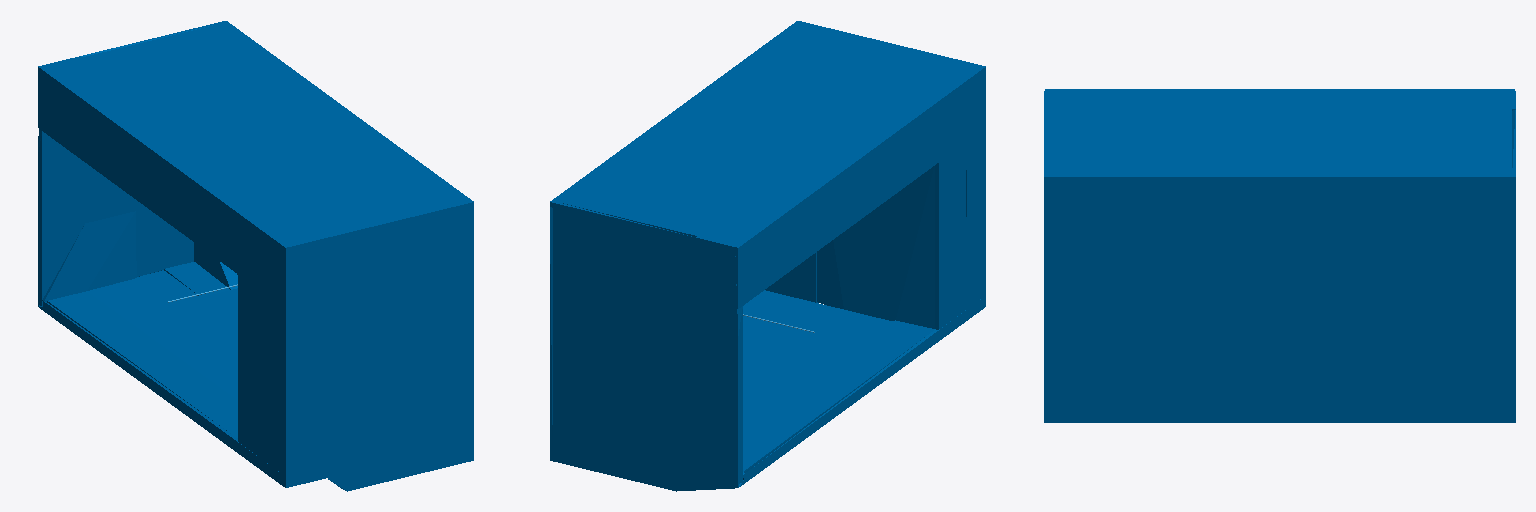
URDF robot description (partnet_87bae84777fe8b702bac1bcdfc2402d2):
<?xml version="1.0" ?>
<robot name="partnet_87bae84777fe8b702bac1bcdfc2402d2">
	<link name="base"/>
	<link name="link_0">
		<visual name="door_frame-27">
			<origin xyz="0.8040978092034378 -0.4571359999999993 -0.36598974550729024"/>
			<geometry>
				<mesh filename="textured_objs/original-4.obj"/>
			</geometry>
		</visual>
		<visual name="glass-28">
			<origin xyz="0.8040978092034378 -0.4571359999999993 -0.36598974550729024"/>
			<geometry>
				<mesh filename="textured_objs/original-2.obj"/>
			</geometry>
		</visual>
		<visual name="handle-29">
			<origin xyz="0.8040978092034378 -0.4571359999999993 -0.56598974550729024"/>
			<geometry>
				<mesh filename="textured_objs/original-3.obj" scale="1.1 1.1 1.5"/>
			</geometry>
		</visual>
		<collision>
			<origin xyz="0.8040978092034378 -0.4571359999999993 -0.36598974550729024"/>
			<geometry>
				<mesh filename="textured_objs/original-4.obj"/>
			</geometry>
		</collision>
		<collision>
			<origin xyz="0.8040978092034378 -0.4571359999999993 -0.36598974550729024"/>
			<geometry>
				<mesh filename="textured_objs/original-2.obj"/>
			</geometry>
		</collision>
		<collision>
			<origin xyz="0.8040978092034378 -0.4571359999999993 -0.36598974550729024"/>
			<geometry>
				<mesh filename="textured_objs/original-3.obj"/>
			</geometry>
		</collision>
	</link>
	<joint name="joint_0" type="revolute">
		<origin xyz="-0.8040978092034378 0.4571359999999993 0.36598974550729024"/>
		<axis xyz="0 -1 0"/>
		<child link="link_0"/>
		<parent link="link_19"/>
		<limit lower="-0.0" upper="1.5707963267948966"/>
	</joint>
	<link name="link_1">
		<visual name="control_button-8">
			<origin xyz="-0.7917796010891323 0.14215177147656233 -0.3672469999999999"/>
			<geometry>
				<mesh filename="textured_objs/original-12.obj"/>
			</geometry>
		</visual>
		<collision>
			<origin xyz="-0.7917796010891323 0.14215177147656233 -0.3672469999999999"/>
			<geometry>
				<mesh filename="textured_objs/original-12.obj"/>
			</geometry>
		</collision>
	</link>
	<joint name="joint_1" type="prismatic">
		<origin xyz="0.7917796010891323 -0.14215177147656233 0.3672469999999999"/>
		<axis xyz="0 0 -1"/>
		<child link="link_1"/>
		<parent link="link_19"/>
		<limit lower="0" upper="0.025"/>
	</joint>
	<link name="link_2">
		<visual name="control_button-9">
			<origin xyz="-0.7917796010891323 0.14215177147656233 -0.3672469999999999"/>
			<geometry>
				<mesh filename="textured_objs/original-13.obj"/>
			</geometry>
		</visual>
		<collision>
			<origin xyz="-0.7917796010891323 0.14215177147656233 -0.3672469999999999"/>
			<geometry>
				<mesh filename="textured_objs/original-13.obj"/>
			</geometry>
		</collision>
	</link>
	<joint name="joint_2" type="prismatic">
		<origin xyz="0.7917796010891323 -0.14215177147656233 0.3672469999999999"/>
		<axis xyz="0 0 -1"/>
		<child link="link_2"/>
		<parent link="link_19"/>
		<limit lower="0" upper="0.025"/>
	</joint>
	<link name="link_3">
		<visual name="control_button-10">
			<origin xyz="-0.7917796010891323 0.14215177147656233 -0.3672469999999999"/>
			<geometry>
				<mesh filename="textured_objs/original-15.obj"/>
			</geometry>
		</visual>
		<collision>
			<origin xyz="-0.7917796010891323 0.14215177147656233 -0.3672469999999999"/>
			<geometry>
				<mesh filename="textured_objs/original-15.obj"/>
			</geometry>
		</collision>
	</link>
	<joint name="joint_3" type="prismatic">
		<origin xyz="0.7917796010891323 -0.14215177147656233 0.3672469999999999"/>
		<axis xyz="0 0 -1"/>
		<child link="link_3"/>
		<parent link="link_19"/>
		<limit lower="0" upper="0.025"/>
	</joint>
	<link name="link_4">
		<visual name="control_button-11">
			<origin xyz="-0.7917796010891323 0.14215177147656233 -0.3672469999999999"/>
			<geometry>
				<mesh filename="textured_objs/original-14.obj"/>
			</geometry>
		</visual>
		<collision>
			<origin xyz="-0.7917796010891323 0.14215177147656233 -0.3672469999999999"/>
			<geometry>
				<mesh filename="textured_objs/original-14.obj"/>
			</geometry>
		</collision>
	</link>
	<joint name="joint_4" type="prismatic">
		<origin xyz="0.7917796010891323 -0.14215177147656233 0.3672469999999999"/>
		<axis xyz="0 0 -1"/>
		<child link="link_4"/>
		<parent link="link_19"/>
		<limit lower="0" upper="0.025"/>
	</joint>
	<link name="link_5">
		<visual name="control_button-12">
			<origin xyz="-0.7917796010891323 0.14215177147656233 -0.3672469999999999"/>
			<geometry>
				<mesh filename="textured_objs/original-16.obj"/>
			</geometry>
		</visual>
		<collision>
			<origin xyz="-0.7917796010891323 0.14215177147656233 -0.3672469999999999"/>
			<geometry>
				<mesh filename="textured_objs/original-16.obj"/>
			</geometry>
		</collision>
	</link>
	<joint name="joint_5" type="prismatic">
		<origin xyz="0.7917796010891323 -0.14215177147656233 0.3672469999999999"/>
		<axis xyz="0 0 -1"/>
		<child link="link_5"/>
		<parent link="link_19"/>
		<limit lower="0" upper="0.025"/>
	</joint>
	<link name="link_6">
		<visual name="control_button-13">
			<origin xyz="-0.7917796010891323 0.14215177147656233 -0.3672469999999999"/>
			<geometry>
				<mesh filename="textured_objs/original-26.obj"/>
			</geometry>
		</visual>
		<collision>
			<origin xyz="-0.7917796010891323 0.14215177147656233 -0.3672469999999999"/>
			<geometry>
				<mesh filename="textured_objs/original-26.obj"/>
			</geometry>
		</collision>
	</link>
	<joint name="joint_6" type="prismatic">
		<origin xyz="0.7917796010891323 -0.14215177147656233 0.3672469999999999"/>
		<axis xyz="0 0 -1"/>
		<child link="link_6"/>
		<parent link="link_19"/>
		<limit lower="0" upper="0.025"/>
	</joint>
	<link name="link_7">
		<visual name="control_button-14">
			<origin xyz="-0.7917796010891323 0.14215177147656233 -0.3672469999999999"/>
			<geometry>
				<mesh filename="textured_objs/original-17.obj"/>
			</geometry>
		</visual>
		<collision>
			<origin xyz="-0.7917796010891323 0.14215177147656233 -0.3672469999999999"/>
			<geometry>
				<mesh filename="textured_objs/original-17.obj"/>
			</geometry>
		</collision>
	</link>
	<joint name="joint_7" type="prismatic">
		<origin xyz="0.7917796010891323 -0.14215177147656233 0.3672469999999999"/>
		<axis xyz="0 0 -1"/>
		<child link="link_7"/>
		<parent link="link_19"/>
		<limit lower="0" upper="0.025"/>
	</joint>
	<link name="link_8">
		<visual name="control_button-15">
			<origin xyz="-0.7917796010891323 0.14215177147656233 -0.3672469999999999"/>
			<geometry>
				<mesh filename="textured_objs/original-19.obj"/>
			</geometry>
		</visual>
		<collision>
			<origin xyz="-0.7917796010891323 0.14215177147656233 -0.3672469999999999"/>
			<geometry>
				<mesh filename="textured_objs/original-19.obj"/>
			</geometry>
		</collision>
	</link>
	<joint name="joint_8" type="prismatic">
		<origin xyz="0.7917796010891323 -0.14215177147656233 0.3672469999999999"/>
		<axis xyz="0 0 -1"/>
		<child link="link_8"/>
		<parent link="link_19"/>
		<limit lower="0" upper="0.025"/>
	</joint>
	<link name="link_9">
		<visual name="control_button-16">
			<origin xyz="-0.7917796010891323 0.14215177147656233 -0.3672469999999999"/>
			<geometry>
				<mesh filename="textured_objs/original-20.obj"/>
			</geometry>
		</visual>
		<collision>
			<origin xyz="-0.7917796010891323 0.14215177147656233 -0.3672469999999999"/>
			<geometry>
				<mesh filename="textured_objs/original-20.obj"/>
			</geometry>
		</collision>
	</link>
	<joint name="joint_9" type="prismatic">
		<origin xyz="0.7917796010891323 -0.14215177147656233 0.3672469999999999"/>
		<axis xyz="0 0 -1"/>
		<child link="link_9"/>
		<parent link="link_19"/>
		<limit lower="0" upper="0.025"/>
	</joint>
	<link name="link_10">
		<visual name="control_button-17">
			<origin xyz="-0.7917796010891323 0.14215177147656233 -0.3672469999999999"/>
			<geometry>
				<mesh filename="textured_objs/original-23.obj"/>
			</geometry>
		</visual>
		<collision>
			<origin xyz="-0.7917796010891323 0.14215177147656233 -0.3672469999999999"/>
			<geometry>
				<mesh filename="textured_objs/original-23.obj"/>
			</geometry>
		</collision>
	</link>
	<joint name="joint_10" type="prismatic">
		<origin xyz="0.7917796010891323 -0.14215177147656233 0.3672469999999999"/>
		<axis xyz="0 0 -1"/>
		<child link="link_10"/>
		<parent link="link_19"/>
		<limit lower="0" upper="0.025"/>
	</joint>
	<link name="link_11">
		<visual name="control_button-18">
			<origin xyz="-0.7917796010891323 0.14215177147656233 -0.3672469999999999"/>
			<geometry>
				<mesh filename="textured_objs/original-27.obj"/>
			</geometry>
		</visual>
		<collision>
			<origin xyz="-0.7917796010891323 0.14215177147656233 -0.3672469999999999"/>
			<geometry>
				<mesh filename="textured_objs/original-27.obj"/>
			</geometry>
		</collision>
	</link>
	<joint name="joint_11" type="prismatic">
		<origin xyz="0.7917796010891323 -0.14215177147656233 0.3672469999999999"/>
		<axis xyz="0 0 -1"/>
		<child link="link_11"/>
		<parent link="link_19"/>
		<limit lower="0" upper="0.025"/>
	</joint>
	<link name="link_12">
		<visual name="control_button-19">
			<origin xyz="-0.7917796010891323 0.14215177147656233 -0.3672469999999999"/>
			<geometry>
				<mesh filename="textured_objs/original-21.obj"/>
			</geometry>
		</visual>
		<collision>
			<origin xyz="-0.7917796010891323 0.14215177147656233 -0.3672469999999999"/>
			<geometry>
				<mesh filename="textured_objs/original-21.obj"/>
			</geometry>
		</collision>
	</link>
	<joint name="joint_12" type="prismatic">
		<origin xyz="0.7917796010891323 -0.14215177147656233 0.3672469999999999"/>
		<axis xyz="0 0 -1"/>
		<child link="link_12"/>
		<parent link="link_19"/>
		<limit lower="0" upper="0.025"/>
	</joint>
	<link name="link_13">
		<visual name="control_button-20">
			<origin xyz="-0.7917796010891323 0.14215177147656233 -0.3672469999999999"/>
			<geometry>
				<mesh filename="textured_objs/original-22.obj"/>
			</geometry>
		</visual>
		<collision>
			<origin xyz="-0.7917796010891323 0.14215177147656233 -0.3672469999999999"/>
			<geometry>
				<mesh filename="textured_objs/original-22.obj"/>
			</geometry>
		</collision>
	</link>
	<joint name="joint_13" type="prismatic">
		<origin xyz="0.7917796010891323 -0.14215177147656233 0.3672469999999999"/>
		<axis xyz="0 0 -1"/>
		<child link="link_13"/>
		<parent link="link_19"/>
		<limit lower="0" upper="0.025"/>
	</joint>
	<link name="link_14">
		<visual name="control_button-21">
			<origin xyz="-0.7917796010891323 0.14215177147656233 -0.3672469999999999"/>
			<geometry>
				<mesh filename="textured_objs/original-18.obj"/>
			</geometry>
		</visual>
		<collision>
			<origin xyz="-0.7917796010891323 0.14215177147656233 -0.3672469999999999"/>
			<geometry>
				<mesh filename="textured_objs/original-18.obj"/>
			</geometry>
		</collision>
	</link>
	<joint name="joint_14" type="prismatic">
		<origin xyz="0.7917796010891323 -0.14215177147656233 0.3672469999999999"/>
		<axis xyz="0 0 -1"/>
		<child link="link_14"/>
		<parent link="link_19"/>
		<limit lower="0" upper="0.025"/>
	</joint>
	<link name="link_15">
		<visual name="control_button-22">
			<origin xyz="-0.7917796010891323 0.14215177147656233 -0.3672469999999999"/>
			<geometry>
				<mesh filename="textured_objs/original-25.obj"/>
			</geometry>
		</visual>
		<collision>
			<origin xyz="-0.7917796010891323 0.14215177147656233 -0.3672469999999999"/>
			<geometry>
				<mesh filename="textured_objs/original-25.obj"/>
			</geometry>
		</collision>
	</link>
	<joint name="joint_15" type="prismatic">
		<origin xyz="0.7917796010891323 -0.14215177147656233 0.3672469999999999"/>
		<axis xyz="0 0 -1"/>
		<child link="link_15"/>
		<parent link="link_19"/>
		<limit lower="0" upper="0.025"/>
	</joint>
	<link name="link_16">
		<visual name="control_button-23">
			<origin xyz="-0.7917796010891323 0.14215177147656233 -0.3672469999999999"/>
			<geometry>
				<mesh filename="textured_objs/original-11.obj"/>
			</geometry>
		</visual>
		<collision>
			<origin xyz="-0.7917796010891323 0.14215177147656233 -0.3672469999999999"/>
			<geometry>
				<mesh filename="textured_objs/original-11.obj"/>
			</geometry>
		</collision>
	</link>
	<joint name="joint_16" type="prismatic">
		<origin xyz="0.7917796010891323 -0.14215177147656233 0.3672469999999999"/>
		<axis xyz="0 0 -1"/>
		<child link="link_16"/>
		<parent link="link_19"/>
		<limit lower="0" upper="0.025"/>
	</joint>
	<link name="link_17">
		<visual name="control_button-24">
			<origin xyz="-0.7917796010891323 0.14215177147656233 -0.3672469999999999"/>
			<geometry>
				<mesh filename="textured_objs/original-10.obj"/>
			</geometry>
		</visual>
		<collision>
			<origin xyz="-0.7917796010891323 0.14215177147656233 -0.3672469999999999"/>
			<geometry>
				<mesh filename="textured_objs/original-10.obj"/>
			</geometry>
		</collision>
	</link>
	<joint name="joint_17" type="prismatic">
		<origin xyz="0.7917796010891323 -0.14215177147656233 0.3672469999999999"/>
		<axis xyz="0 0 -1"/>
		<child link="link_17"/>
		<parent link="link_19"/>
		<limit lower="0" upper="0.025"/>
	</joint>
	<link name="link_18">
		<visual name="control_button-25">
			<origin xyz="-0.7917796010891323 0.14215177147656233 -0.3672469999999999"/>
			<geometry>
				<mesh filename="textured_objs/original-24.obj"/>
			</geometry>
		</visual>
		<collision>
			<origin xyz="-0.7917796010891323 0.14215177147656233 -0.3672469999999999"/>
			<geometry>
				<mesh filename="textured_objs/original-24.obj"/>
			</geometry>
		</collision>
	</link>
	<joint name="joint_18" type="prismatic">
		<origin xyz="0.7917796010891323 -0.14215177147656233 0.3672469999999999"/>
		<axis xyz="0 0 -1"/>
		<child link="link_18"/>
		<parent link="link_19"/>
		<limit lower="0" upper="0.025"/>
	</joint>
	<link name="link_19">
		<visual name="surface-4">
			<origin xyz="0 0 0"/>
			<geometry>
				<mesh filename="textured_objs/new-0.obj"/>
			</geometry>
		</visual>
		<visual name="frame-5">
			<origin xyz="0 0 0"/>
			<geometry>
				<mesh filename="textured_objs/new-3.obj"/>
			</geometry>
		</visual>
		<visual name="frame-5">
			<origin xyz="0 0 0"/>
			<geometry>
				<mesh filename="textured_objs/original-6.obj"/>
			</geometry>
		</visual>
		<visual name="frame-5">
			<origin xyz="0 0 0"/>
			<geometry>
				<mesh filename="textured_objs/new-1_v.obj"/>
			</geometry>
		</visual>
		<visual name="display_panel-26">
			<origin xyz="0 0 0"/>
			<geometry>
				<mesh filename="textured_objs/new-2.obj"/>
			</geometry>
		</visual>
		<collision>
			<origin xyz="0 0 0"/>
			<geometry>
				<mesh filename="textured_objs/new-0.obj"/>
			</geometry>
		</collision>
		<collision>
			<origin xyz="0 0 0"/>
			<geometry>
				<mesh filename="textured_objs/new-3.obj"/>
			</geometry>
		</collision>
		<collision>
			<origin xyz="0 0 0"/>
			<geometry>
				<mesh filename="textured_objs/original-6.obj"/>
			</geometry>
		</collision>
		<collision>
			<origin xyz="0 0 0"/>
			<geometry>
				<mesh filename="textured_objs/new-1_v.obj"/>
			</geometry>
		</collision>
		<collision>
			<origin xyz="0 0 0"/>
			<geometry>
				<mesh filename="textured_objs/new-2.obj"/>
			</geometry>
		</collision>
	</link>
	<joint name="joint_19" type="fixed">
		<origin rpy="1.570796326794897 0 -1.570796326794897" xyz="0 0 0"/>
		<child link="link_19"/>
		<parent link="base"/>
	</joint>
</robot>

--- Render facts (derived) ---
3 views of the same robot in one strip: view 1: azimuth 30°, elevation 25°; view 2: azimuth 150°, elevation 25°; view 3: azimuth 270°, elevation 25° (orthographic).
Robot: partnet_87bae84777fe8b702bac1bcdfc2402d2 — 21 links, 20 joints (1 revolute, 18 prismatic, 1 fixed); root link base; default pose: every joint at zero.
Visible links, largest first — view 1: link_19; view 2: link_19; view 3: link_19.
Boxes of the visible links, x1,y1,x2,y2 form: link_19: (38, 21, 473, 491); link_19: (550, 21, 985, 491); link_19: (1044, 89, 1515, 422).
Size in the robot's own frame: 0.7176 by 1.63 by 0.9408 metres.
Meshes: 26 distinct files referenced, 2 mesh visuals loaded (2 OBJ); not drawn: 24 (reference not matched to a file when rendering).